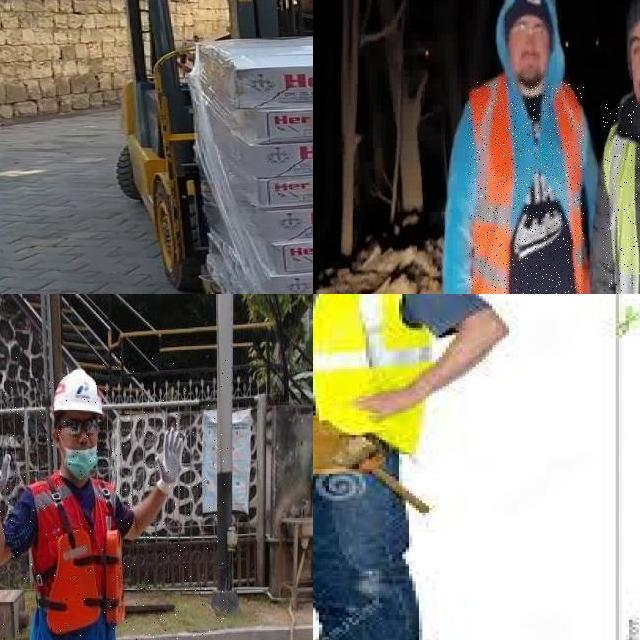GLASS: (58, 418, 102, 436)
GLOVE: (155, 428, 185, 496), (0, 431, 11, 511)
HELMET: (52, 367, 105, 417)
VEST: (469, 81, 584, 294), (313, 294, 434, 456), (26, 472, 127, 640)
